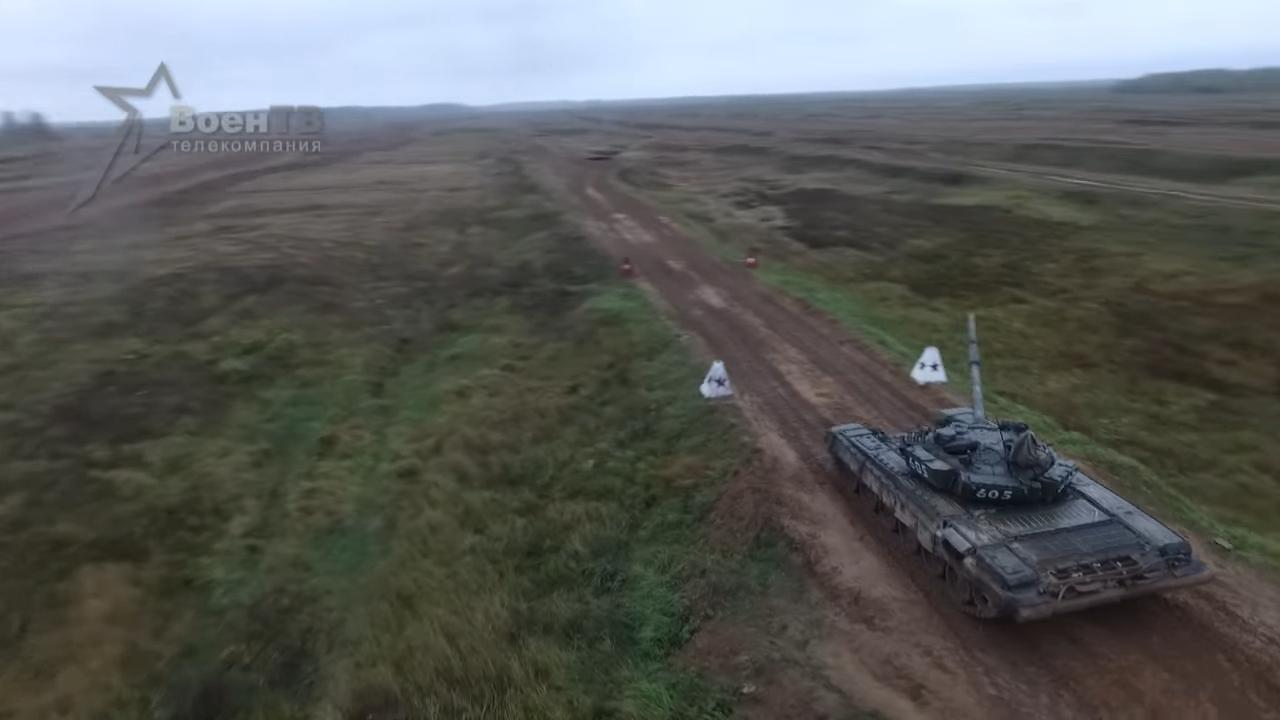tank: (823, 313, 1216, 625)
